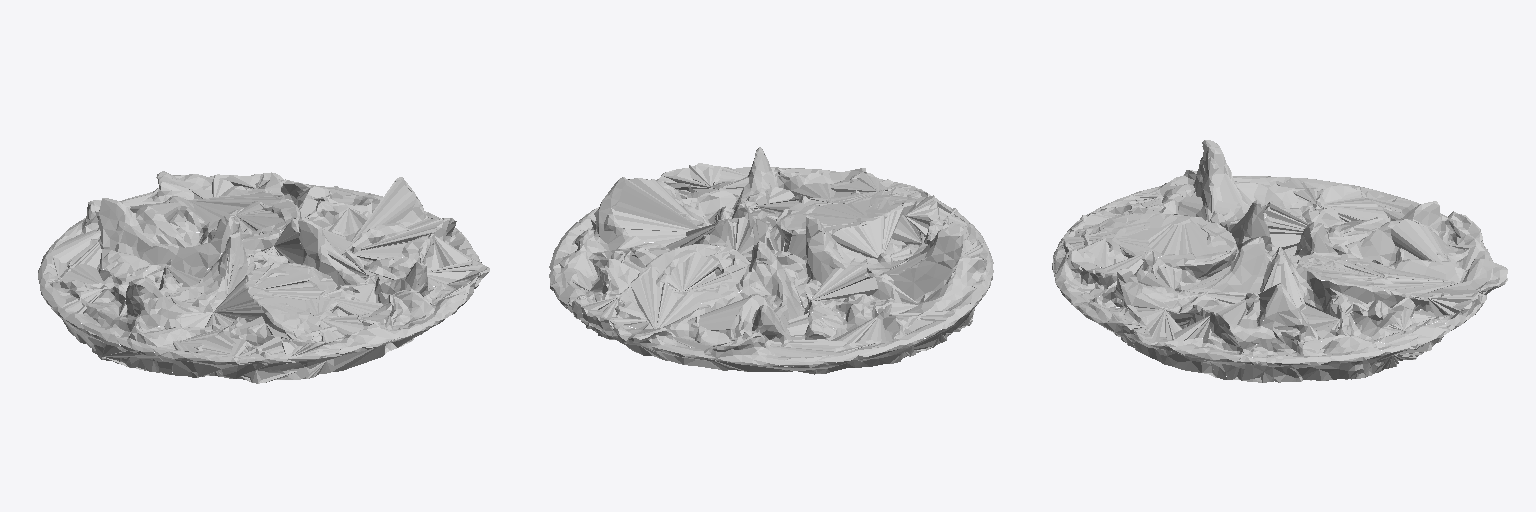
Rendered from antipasto.obj.
The picture shows the model from 3 angles: view 1: azimuth 30°, elevation 25°; view 2: azimuth 150°, elevation 25°; view 3: azimuth 270°, elevation 25°; orthographic projection.
Visible parts, largest first — view 1: Mesh_0.001; view 2: Mesh_0.001; view 3: Mesh_0.001.
Boxes of the visible parts, box(x1,y1,x2,y2) form: Mesh_0.001: box(38, 171, 489, 383); Mesh_0.001: box(549, 147, 993, 374); Mesh_0.001: box(1052, 140, 1507, 382).
Size of the model in its own units: 0.4285 by 0.0925 by 0.4406.